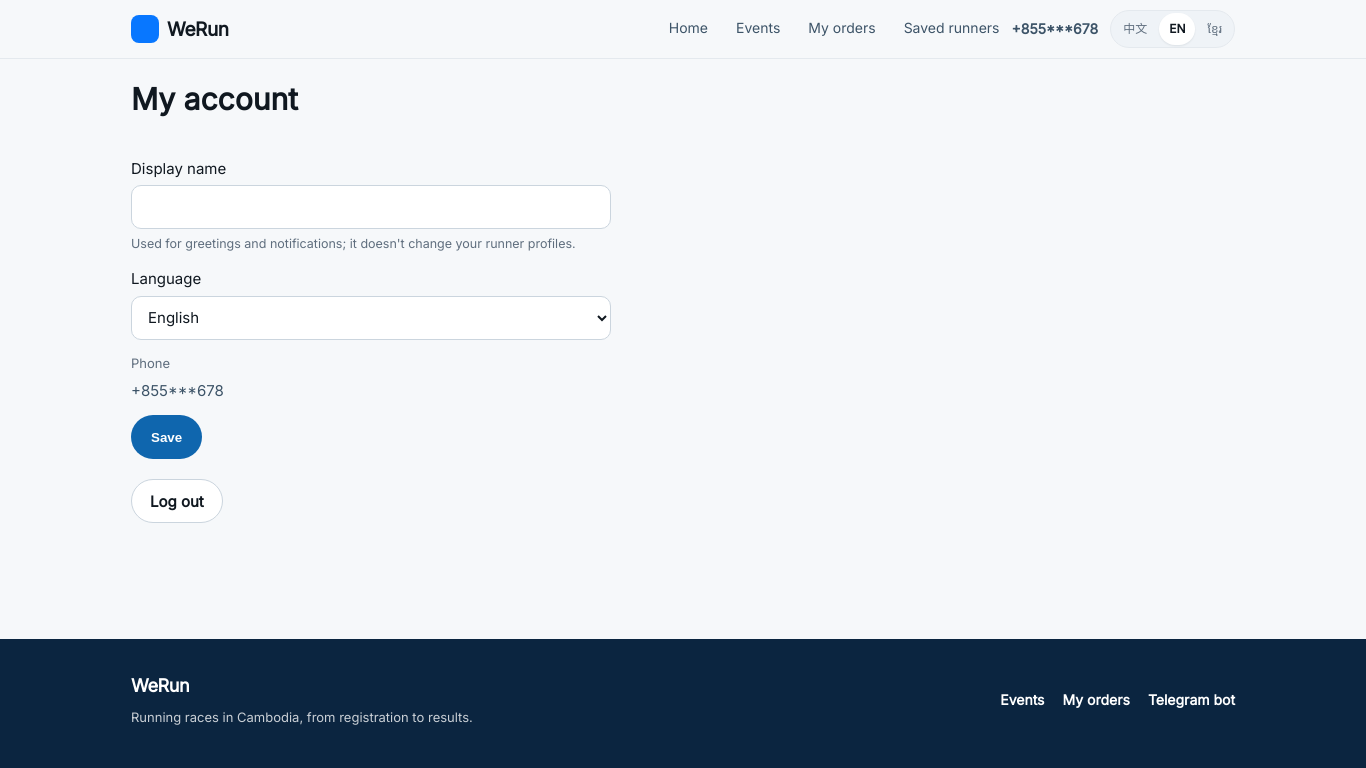
Test case: MePage › 手机号跑者没有显示名时只改语言，请求里不带 displayName
Expected: the field with test id "me-display-name" is empty, [131,185,611,229]
Expected: the link with test id "nav-me" reads "+855***678", [1012,17,1098,41]
Select "ខ្មែរ" in the dropdown with test id "me-locale" at (371, 318), box [131,296,611,340]
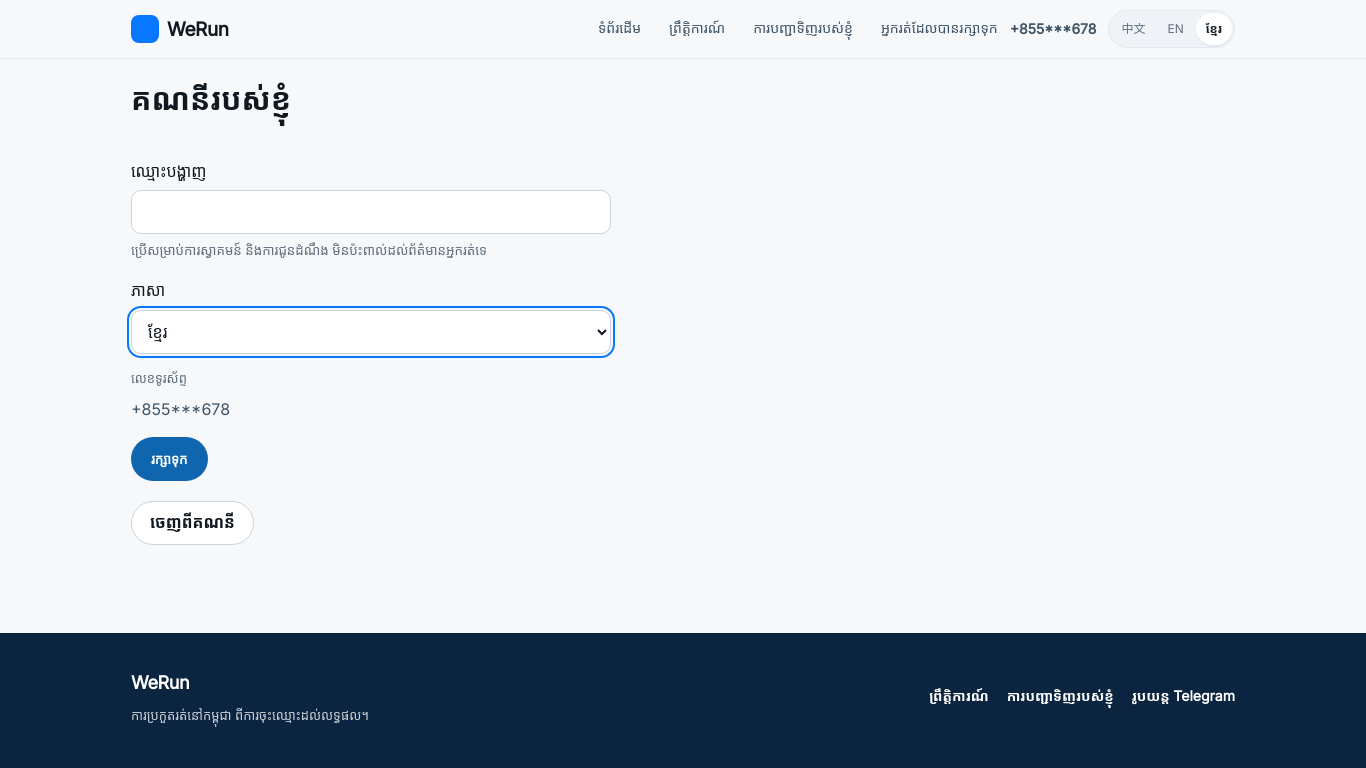
Click the button with test id "me-save" at (169, 459), box [131,437,208,481]
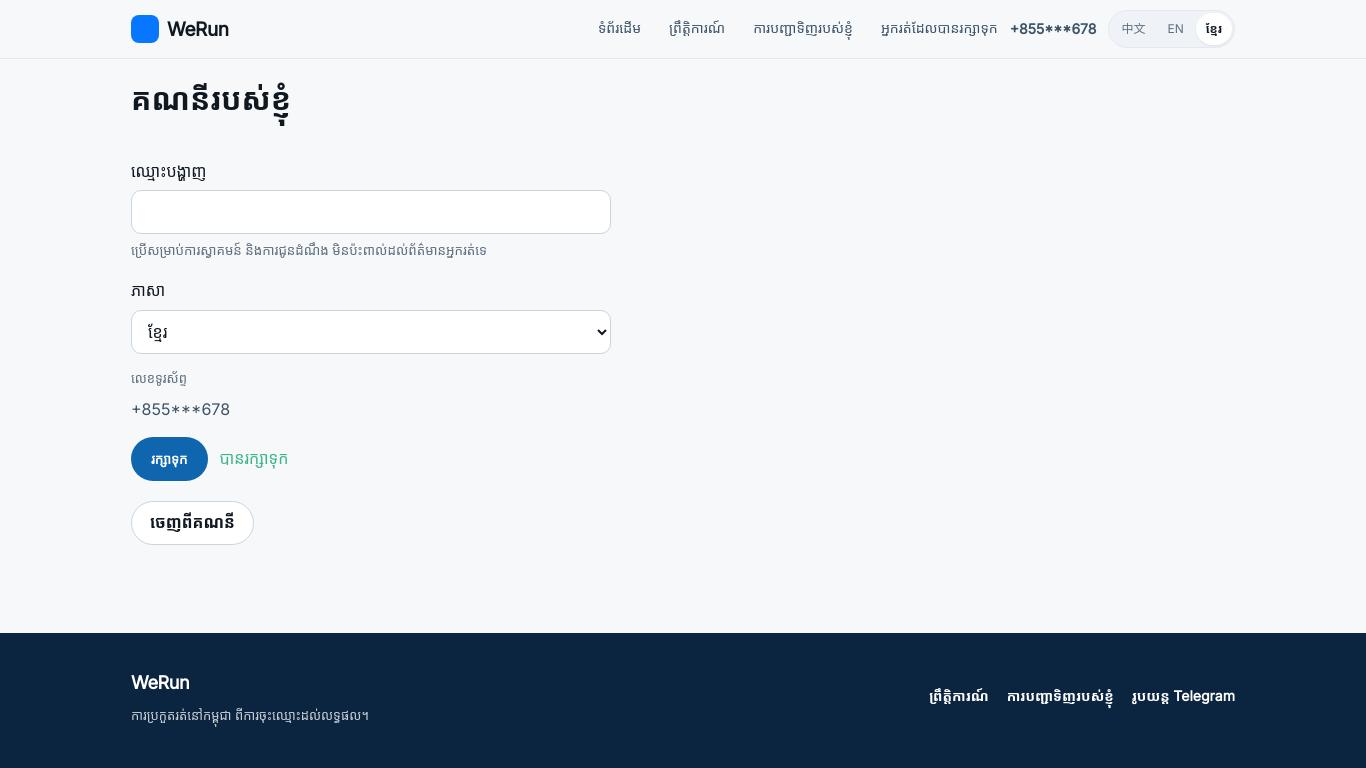
Expected: the link with test id "nav-me" reads "+855***678", [1010,16,1096,42]
Expected: the message "បានរក្សាទុក" is shown, [220,444,288,474]
